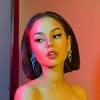Persons: (13, 6, 92, 81)
